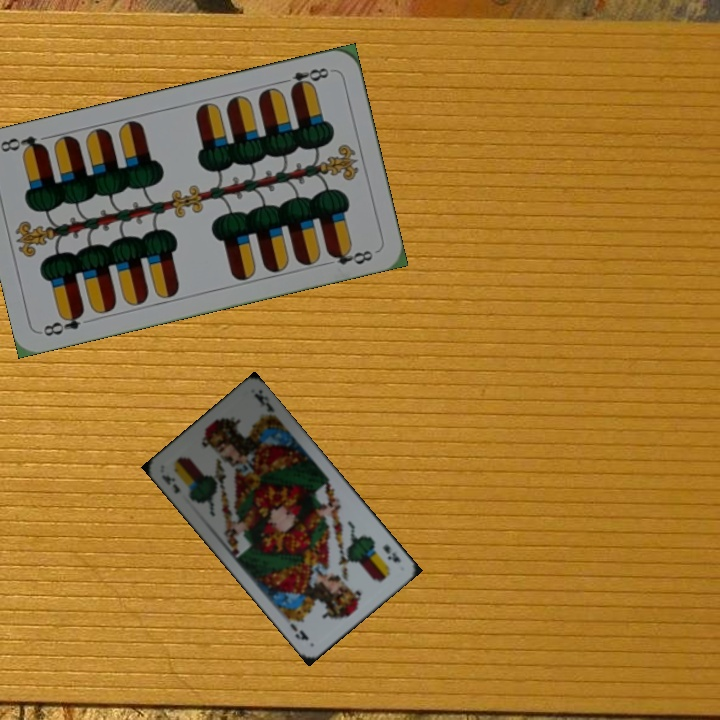E8: (276, 63, 332, 93), (39, 306, 87, 339)
EK: (378, 540, 403, 565), (158, 471, 183, 496)
